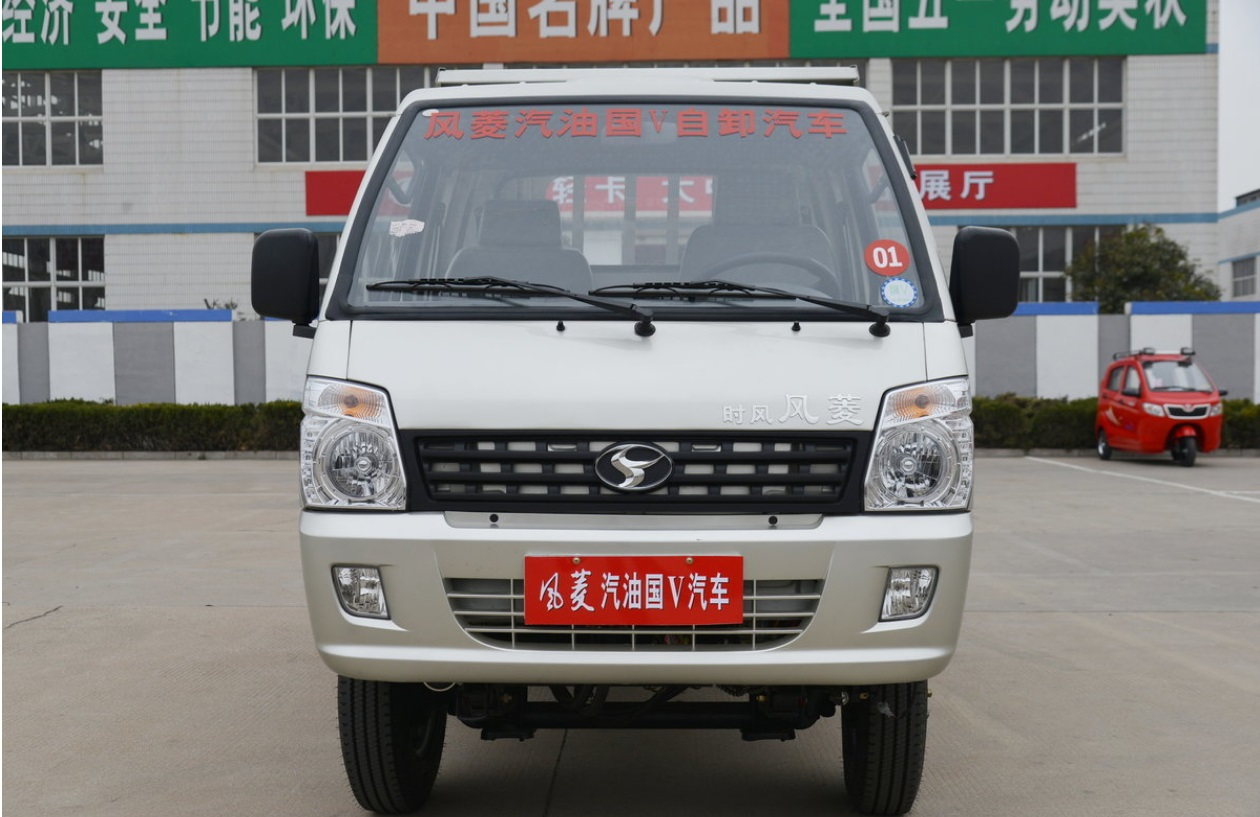truck: (248, 62, 1023, 817)
